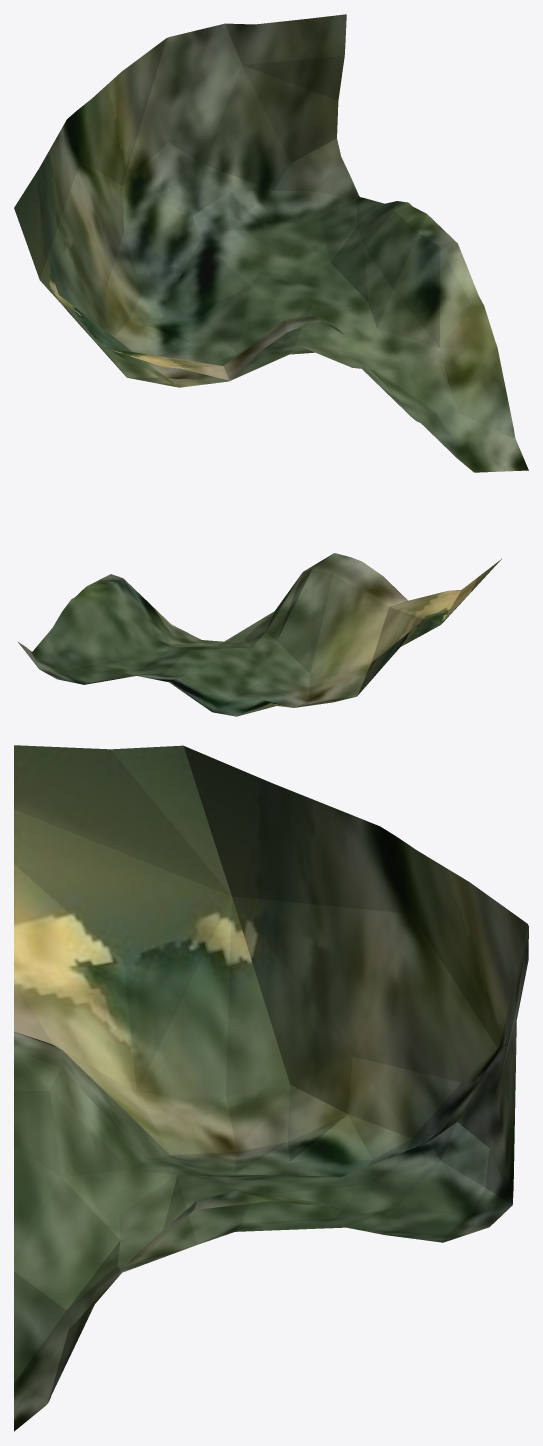
3 renders of one model, top to bottom at view 1: azimuth 30°, elevation 25°; view 2: azimuth 150°, elevation 25°; view 3: azimuth 270°, elevation 25°, orthographic. The views are drawn at different scales.
Bounding box in the file's own units: 1.78 × 1.22 × 1.4.
Materials: 1 (1 with a texture image).
